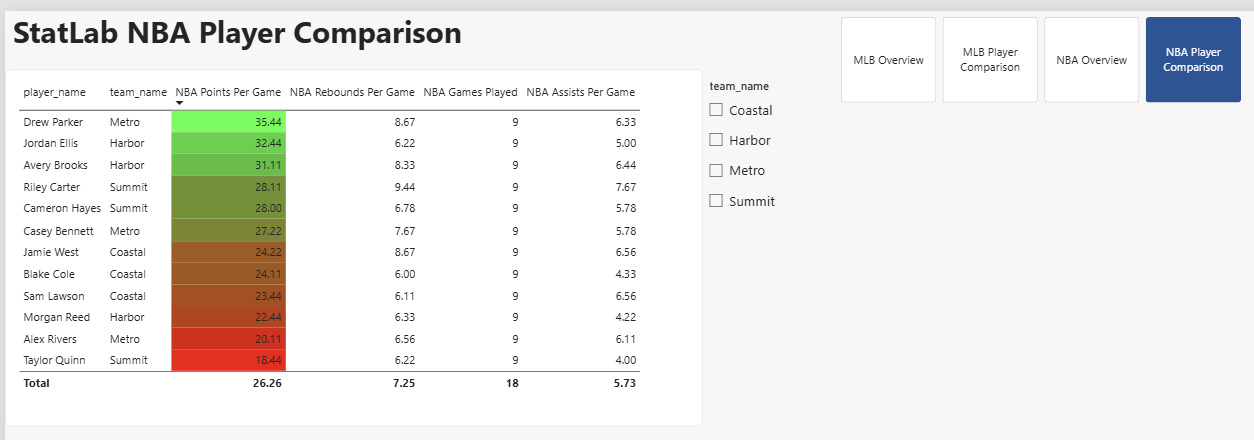

This screenshot's page, from the dashboard's own definition file:
{"tool":"powerbi","page":{"name":"NBA Player Comparison","canvas":[1920,1080],"ordinal":3},"visuals":[{"type":"tableEx","fields":{"Values":["public nba_game_log.player_name","public nba_game_log.team_name","public mlb_game_log.NBA Points Per Game","public mlb_game_log.NBA Rebounds Per Game","public mlb_game_log.NBA Games Played","public mlb_game_log.NBA Assists Per Game"]},"box":[0,71.9,871.9,445.6],"z":0},{"type":"slicer","fields":{"Values":["public mlb_game_log.team_name"]},"box":[871.9,84.2,303.5,305.3],"z":1},{"type":"textbox","box":[10.5,0,631.6,59.6],"z":2},{"type":"pageNavigator","box":[1045.6,7,503.5,107],"z":3}]}

Visuals, with their boxes on the page's 1920x1080 design canvas (x1, y1, x2, y2). These are canvas units, not pixel positions in the 1254x440 screenshot, which may show the page scaled, cropped or inside an application window:
tableEx - public nba_game_log.player_name x public nba_game_log.team_name: (0, 72, 872, 518)
slicer - public mlb_game_log.team_name: (872, 84, 1175, 390)
textbox: (10, 0, 642, 60)
pageNavigator: (1046, 7, 1549, 114)
